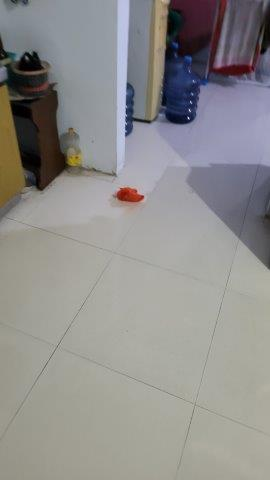plastik: (109, 186, 146, 205)
